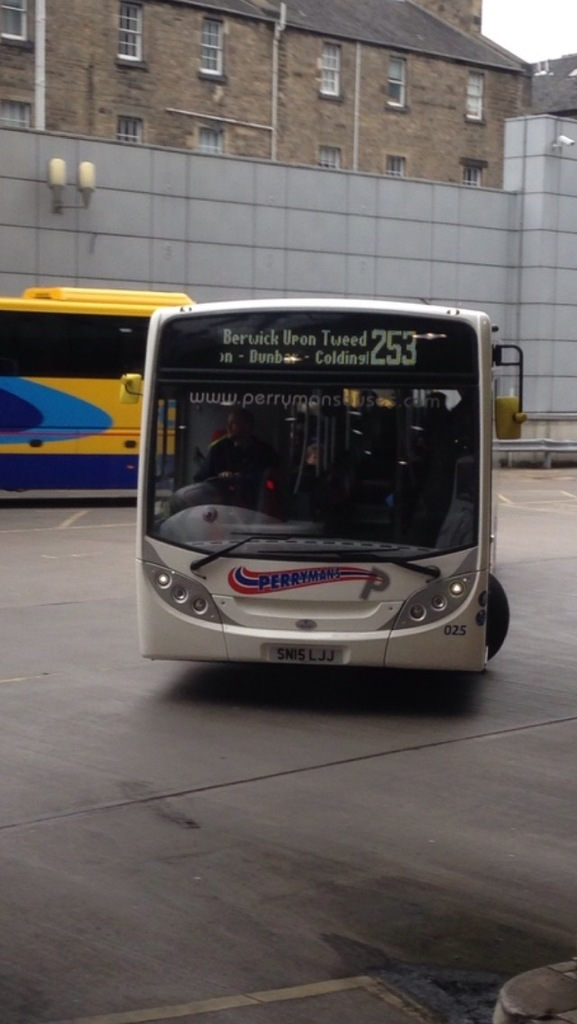Bus: (116, 304, 528, 667), (0, 281, 195, 493)
